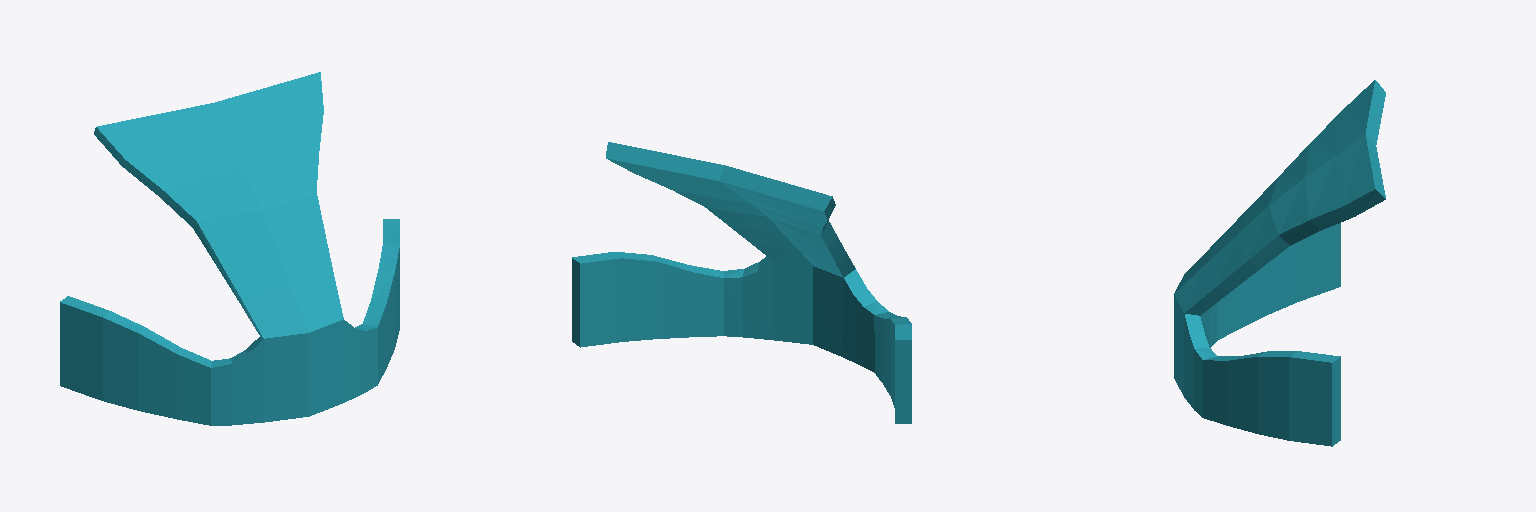
Rendered from Hood4.obj.
3 renders of one model, left to right at view 1: azimuth 30°, elevation 25°; view 2: azimuth 150°, elevation 25°; view 3: azimuth 270°, elevation 25°, orthographic.
Parts seen in each view (by area): view 1: Hood3_Cylinder.002; view 2: Hood3_Cylinder.002; view 3: Hood3_Cylinder.002.
Part boxes in pixels (left/top/right/bottom): Hood3_Cylinder.002: left=60, top=72, right=399, bottom=425; Hood3_Cylinder.002: left=572, top=142, right=911, bottom=423; Hood3_Cylinder.002: left=1174, top=80, right=1385, bottom=446.
Bounding box in the file's own units: 6.96 × 4.76 × 3.77.